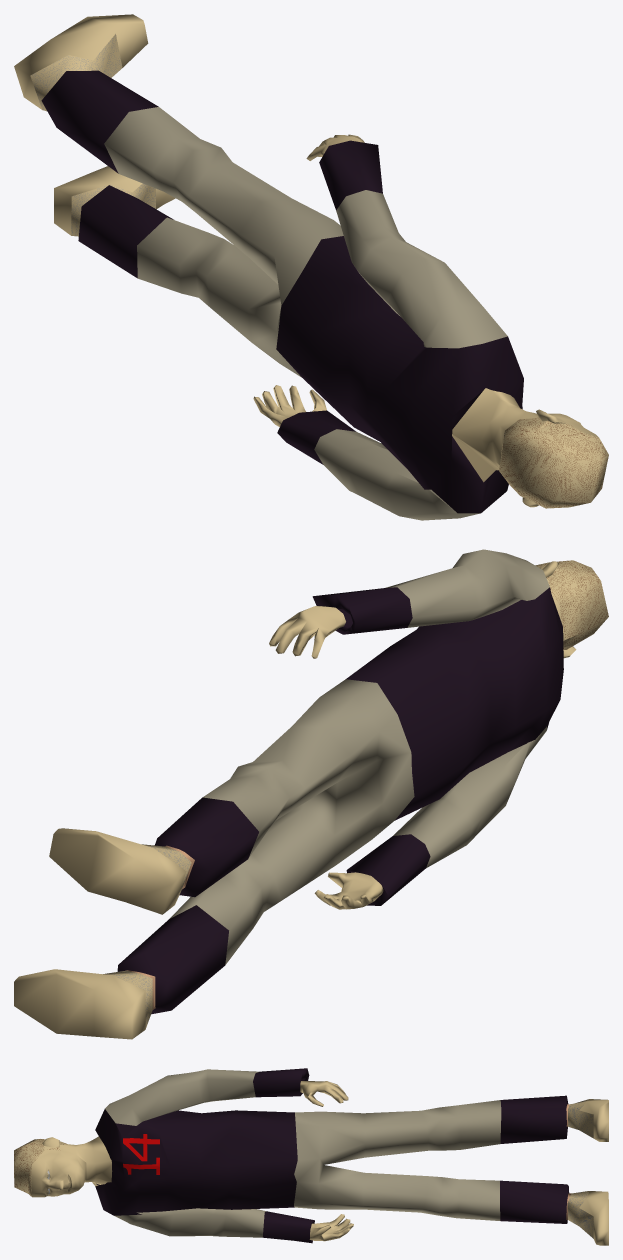
Rendered from boy.dae.
3 views of the same model, one above another, from view 1: azimuth 30°, elevation 25°; view 2: azimuth 150°, elevation 25°; view 3: azimuth 270°, elevation 25° (orthographic). The views are drawn at different scales.
Parts seen in each view (by area): view 1: coords_ME_ID47_MA___auto_, coords_ME_ID93_MA___auto_5, coords_ME_ID69_MA___auto_5, coords_ME_ID33_MA___auto_1, coords_ME_ID61_MA___auto_5, coords_ME_ID87_MA___auto_, coords_ME_ID11_MA___auto_, coords_ME_ID139_MA___auto_1, coords_ME_ID19_MA___auto_1, coords_ME_ID133_MA___auto_, coords_ME_ID33_MA___auto_3, coords_ME_ID75_MA___auto_1 (+4 smaller); view 2: coords_ME_ID93_MA___auto_5, coords_ME_ID47_MA___auto_, coords_ME_ID75_MA___auto_1, coords_ME_ID69_MA___auto_5, coords_ME_ID139_MA___auto_1, coords_ME_ID61_MA___auto_5, coords_ME_ID11_MA___auto_, coords_ME_ID87_MA___auto_, coords_ME_ID33_MA___auto_1, coords_ME_ID133_MA___auto_, coords_ME_ID99_MA___auto_, coords_ME_ID3_MA___auto_1 (+3 smaller); view 3: coords_ME_ID47_MA___auto_, coords_ME_ID93_MA___auto_5, coords_ME_ID69_MA___auto_5, coords_ME_ID19_MA___auto_1, coords_ME_ID61_MA___auto_5, coords_ME_ID87_MA___auto_, coords_ME_ID11_MA___auto_, coords_ME_ID133_MA___auto_, coords_ME_ID99_MA___auto_, coords_ME_ID33_MA___auto_1, coords_ME_ID75_MA___auto_1, coords_ME_ID139_MA___auto_1 (+8 smaller).
Boxes of the visible parts, <box> form: coords_ME_ID47_MA___auto_: <box>276,236,523,513</box>; coords_ME_ID93_MA___auto_5: <box>104,107,343,377</box>; coords_ME_ID69_MA___auto_5: <box>336,190,507,348</box>; coords_ME_ID33_MA___auto_1: <box>499,417,608,508</box>; coords_ME_ID61_MA___auto_5: <box>314,429,480,520</box>; coords_ME_ID87_MA___auto_: <box>41,70,158,173</box>; coords_ME_ID11_MA___auto_: <box>78,185,173,278</box>; coords_ME_ID139_MA___auto_1: <box>14,14,148,109</box>; coords_ME_ID19_MA___auto_1: <box>452,388,598,507</box>; coords_ME_ID133_MA___auto_: <box>319,140,382,210</box>; coords_ME_ID33_MA___auto_3: <box>499,418,608,507</box>; coords_ME_ID75_MA___auto_1: <box>54,166,175,235</box>; coords_ME_ID93_MA___auto_5: <box>169,679,414,964</box>; coords_ME_ID47_MA___auto_: <box>346,587,563,820</box>; coords_ME_ID75_MA___auto_1: <box>14,969,145,1039</box>; coords_ME_ID69_MA___auto_5: <box>385,549,549,627</box>; coords_ME_ID139_MA___auto_1: <box>49,828,186,914</box>; coords_ME_ID61_MA___auto_5: <box>393,726,546,868</box>; coords_ME_ID11_MA___auto_: <box>117,905,228,1014</box>; coords_ME_ID87_MA___auto_: <box>154,797,258,897</box>; coords_ME_ID33_MA___auto_1: <box>535,560,608,649</box>; coords_ME_ID133_MA___auto_: <box>312,587,412,634</box>; coords_ME_ID99_MA___auto_: <box>346,834,430,905</box>; coords_ME_ID3_MA___auto_1: <box>269,606,345,658</box>; coords_ME_ID47_MA___auto_: <box>95,1109,297,1215</box>; coords_ME_ID93_MA___auto_5: <box>294,1100,501,1220</box>; coords_ME_ID69_MA___auto_5: <box>105,1069,258,1125</box>; coords_ME_ID19_MA___auto_1: <box>31,1136,112,1197</box>; coords_ME_ID61_MA___auto_5: <box>114,1208,265,1237</box>; coords_ME_ID87_MA___auto_: <box>500,1095,568,1143</box>; coords_ME_ID11_MA___auto_: <box>500,1180,569,1223</box>; coords_ME_ID133_MA___auto_: <box>253,1068,309,1097</box>; coords_ME_ID99_MA___auto_: <box>262,1211,314,1243</box>; coords_ME_ID33_MA___auto_1: <box>14,1139,67,1196</box>; coords_ME_ID75_MA___auto_1: <box>579,1191,608,1245</box>; coords_ME_ID139_MA___auto_1: <box>579,1099,608,1141</box>.
Size of the model in its own units: 3.33 by 5.69 by 16.82.
